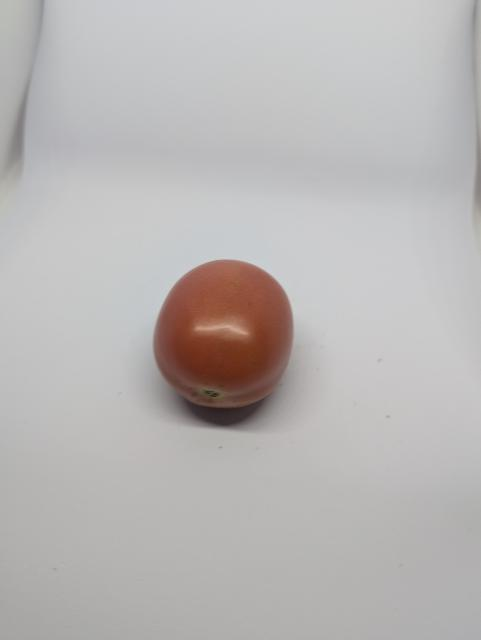red: (135, 251, 308, 430)
